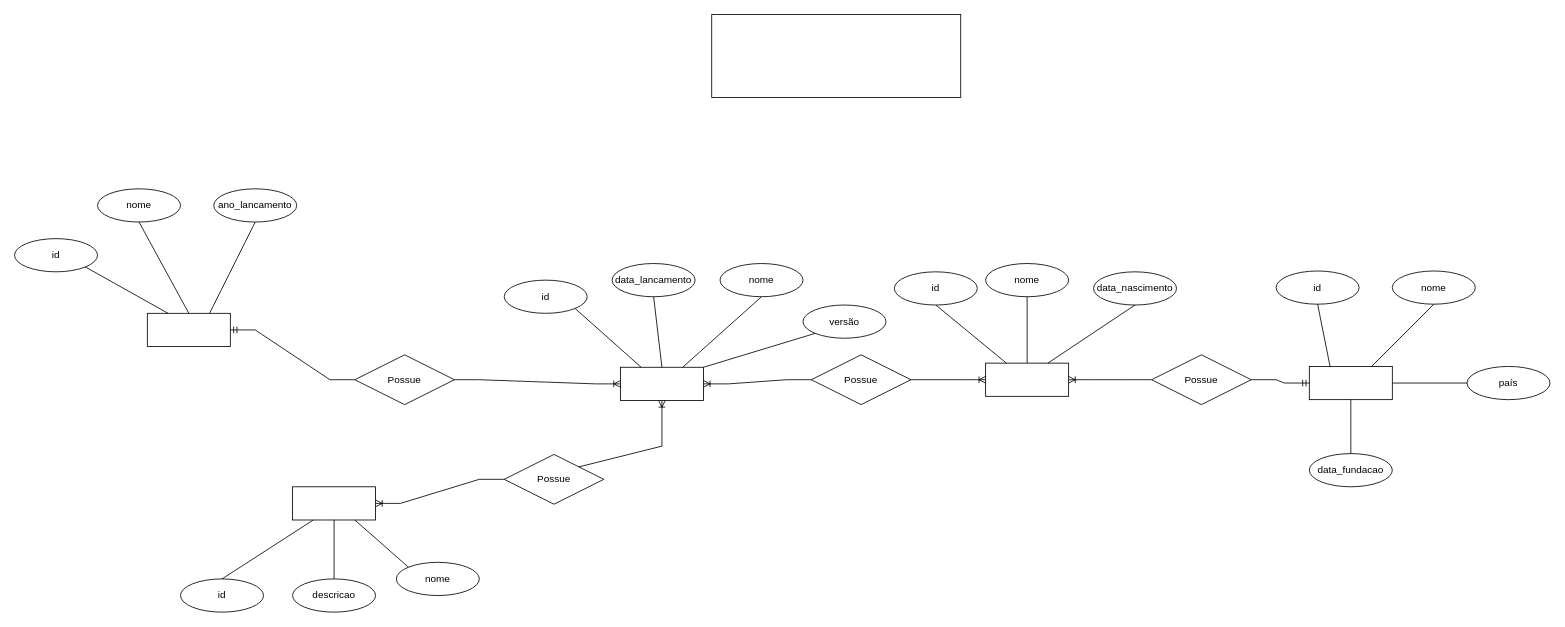
Some shapes in this 1565 by 627 pixel diagram are drawn without their labels. Each missing label, with the centre of its shape:
"Album" belongs at [188,329].
"Artista" belongs at [1027,379].
"Gravadora" belongs at [1350,383].
"gênero" belongs at [334,503].
"Igor de Andrade Kauan Henrique Kaestner" belongs at [836,56].
"Música" belongs at [661,383].
